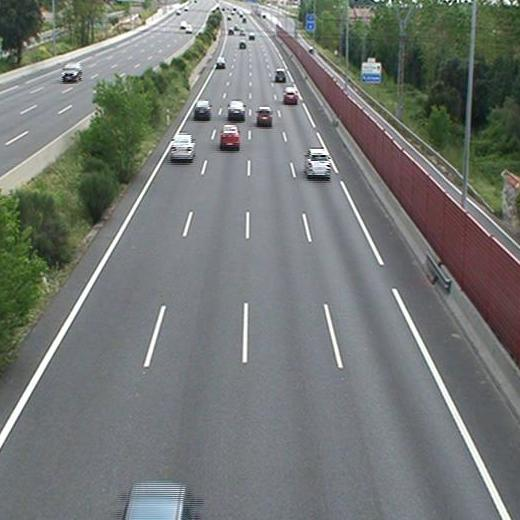car: (307, 150, 332, 174), (169, 135, 194, 158), (221, 124, 240, 145), (256, 106, 272, 124), (229, 100, 245, 116), (194, 101, 211, 116), (284, 88, 297, 102), (275, 69, 287, 81), (216, 56, 226, 67), (237, 40, 247, 48)
